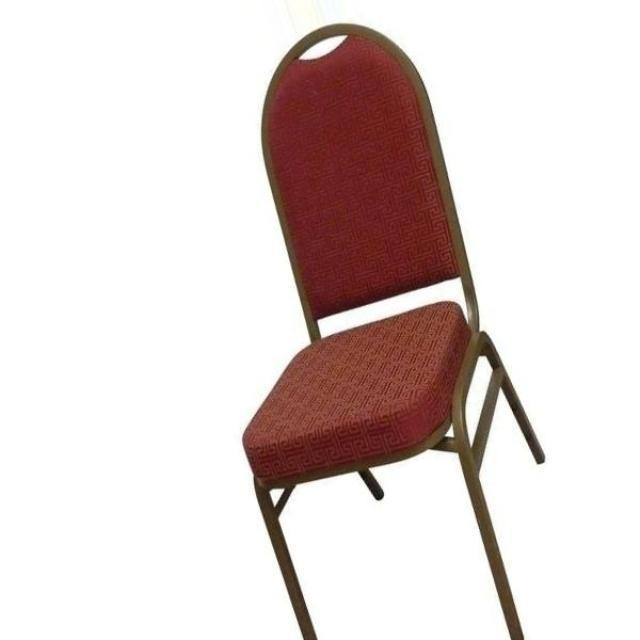chair: (242, 24, 553, 640)
